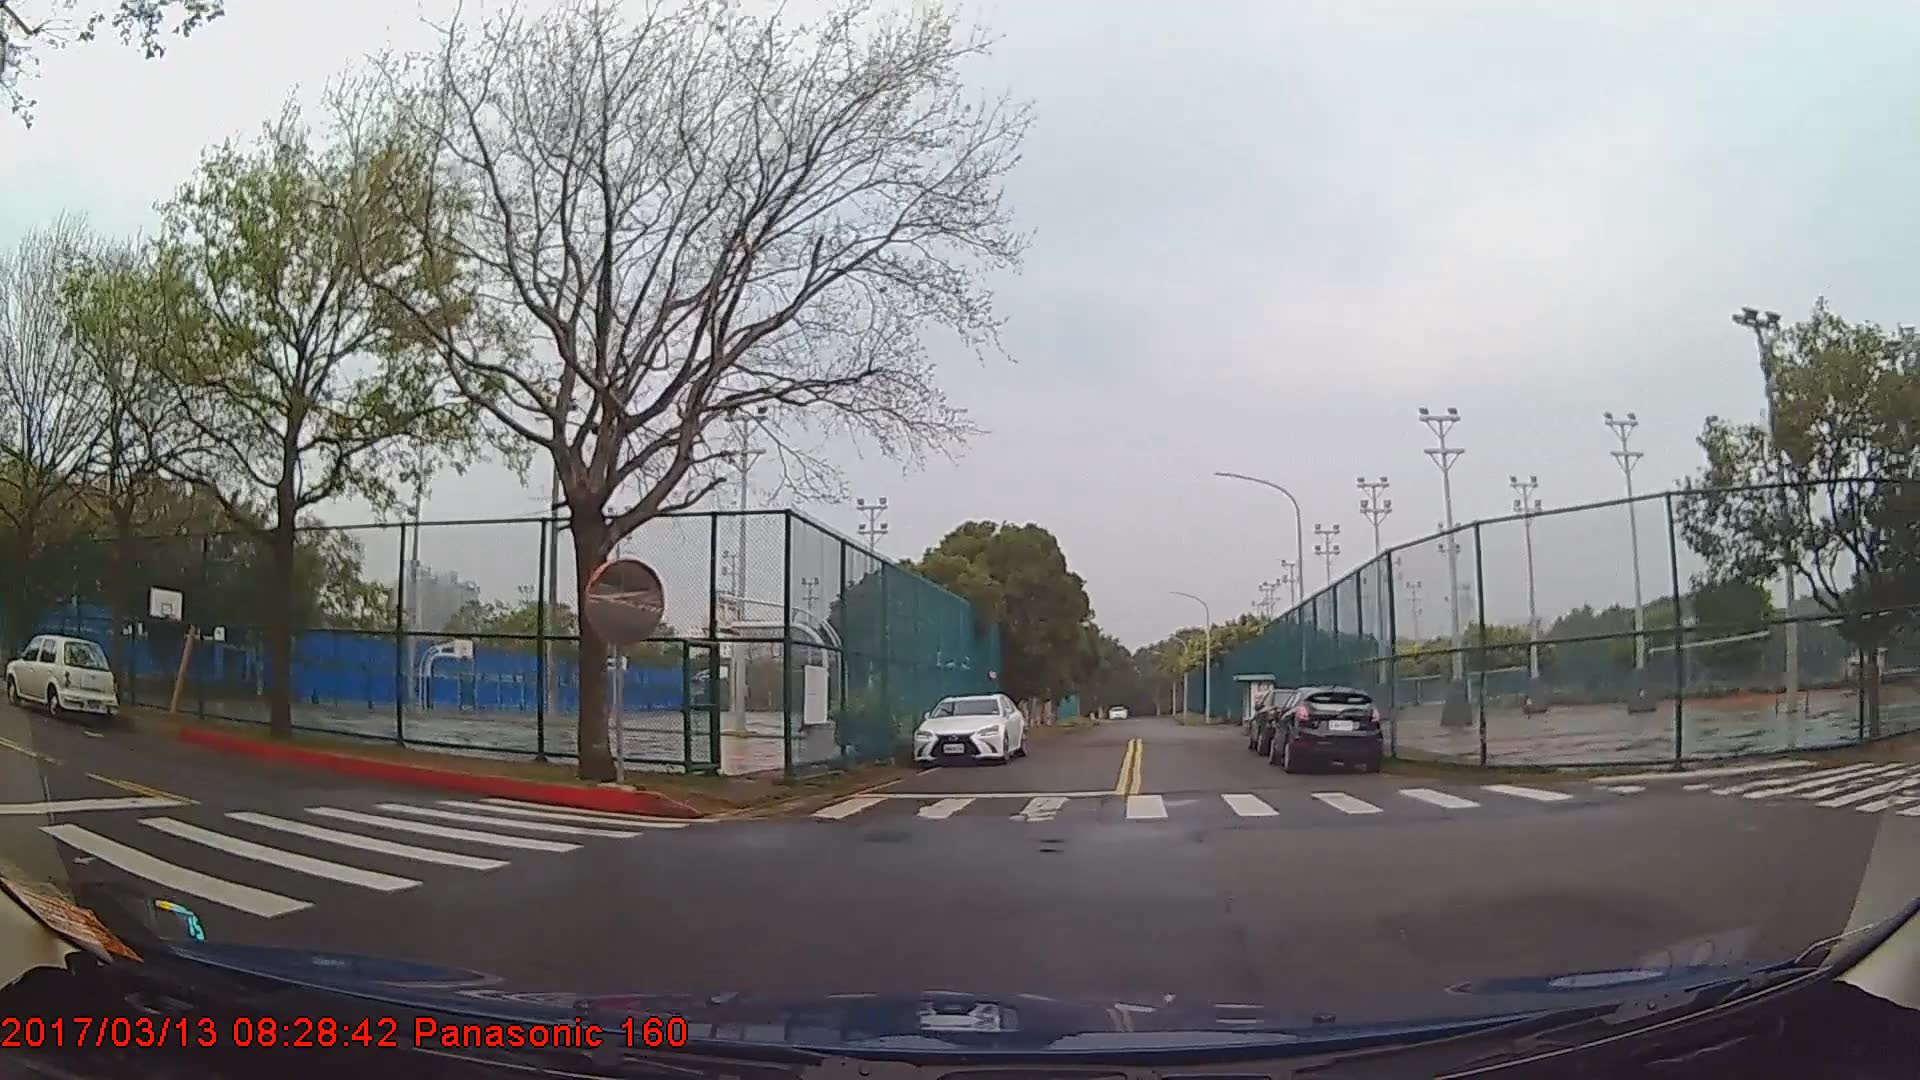vehicle: (5, 630, 121, 721), (1271, 682, 1385, 771), (915, 690, 1027, 766)
